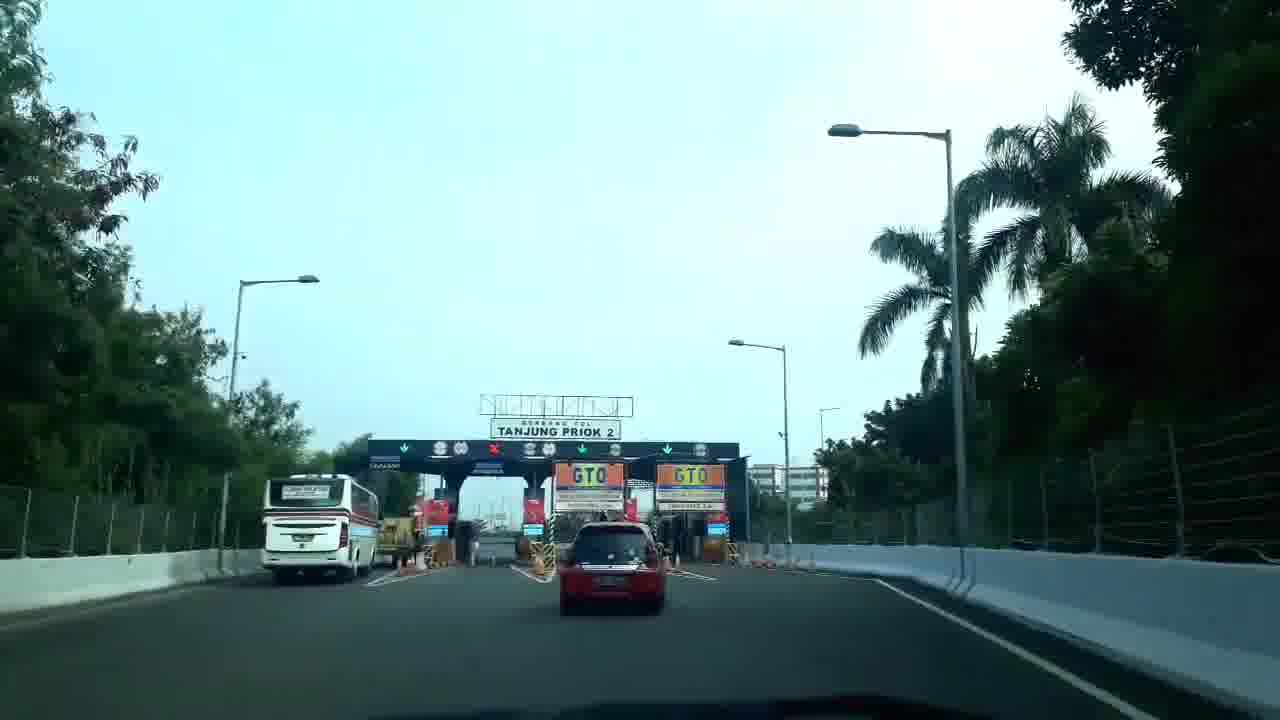plate_positive: (596, 575, 629, 586)
